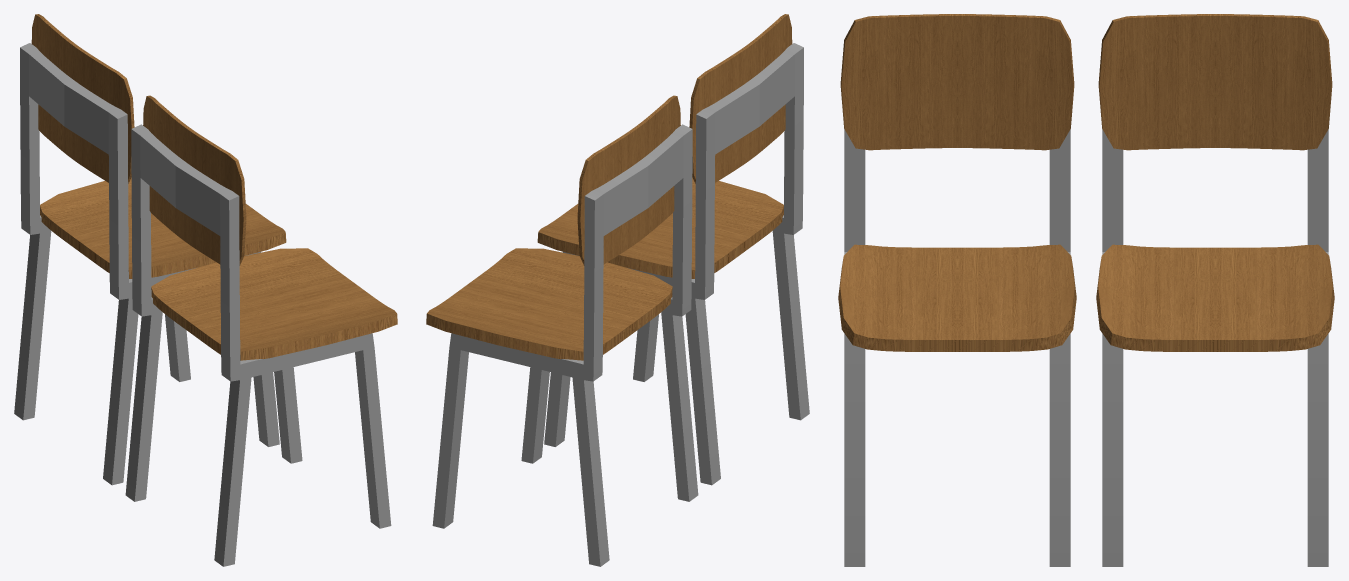
Rendered from SillasD_IzqDos.obj.
The picture shows the model from 3 angles, left to right: view 1: azimuth 30°, elevation 25°; view 2: azimuth 150°, elevation 25°; view 3: azimuth 270°, elevation 25°; orthographic projection. The views are drawn at different scales.
Parts seen in each view (by area): view 1: group22_pasted__group11_pasted__pasted__group10_pasted__pasted__; view 2: group22_pasted__group11_pasted__pasted__group10_pasted__pasted__; view 3: group22_pasted__group11_pasted__pasted__group10_pasted__pasted__.
Part boxes in pixels (<box>): group22_pasted__group11_pasted__pasted__group10_pasted__pasted__: <box>14,14,397,566</box>; group22_pasted__group11_pasted__pasted__group10_pasted__pasted__: <box>426,14,809,566</box>; group22_pasted__group11_pasted__pasted__group10_pasted__pasted__: <box>838,14,1334,566</box>.
Bounding box in the file's own units: 0.8412 × 1.78 × 1.72.
4 materials, 4 textured.
